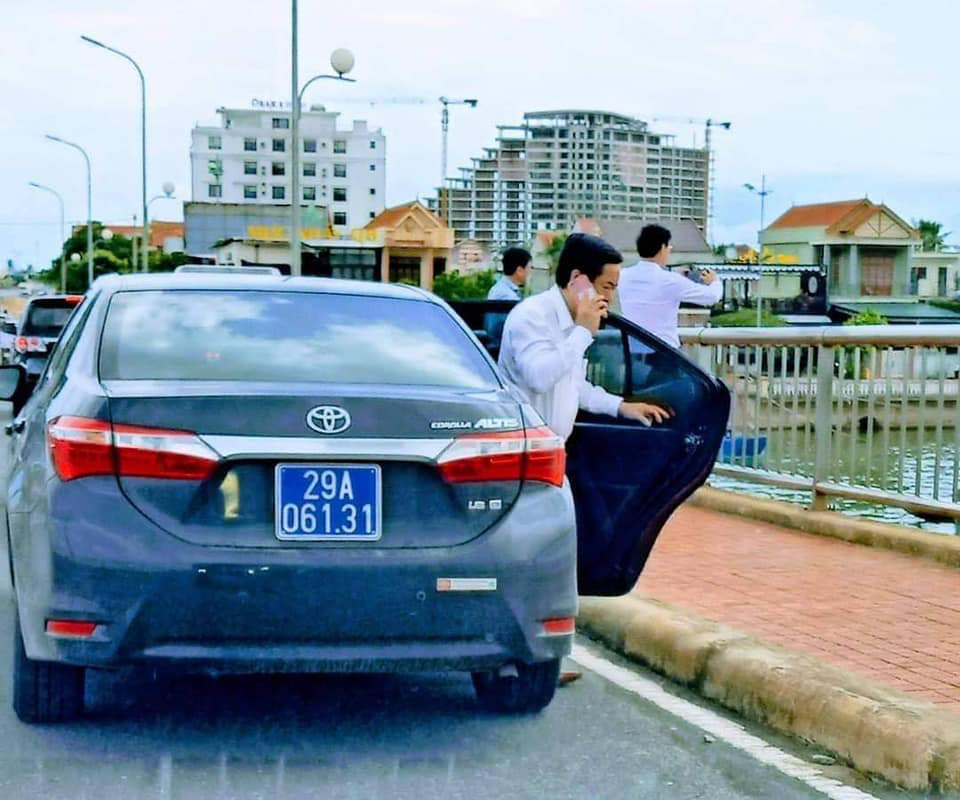number_plate: (276, 460, 383, 535)
